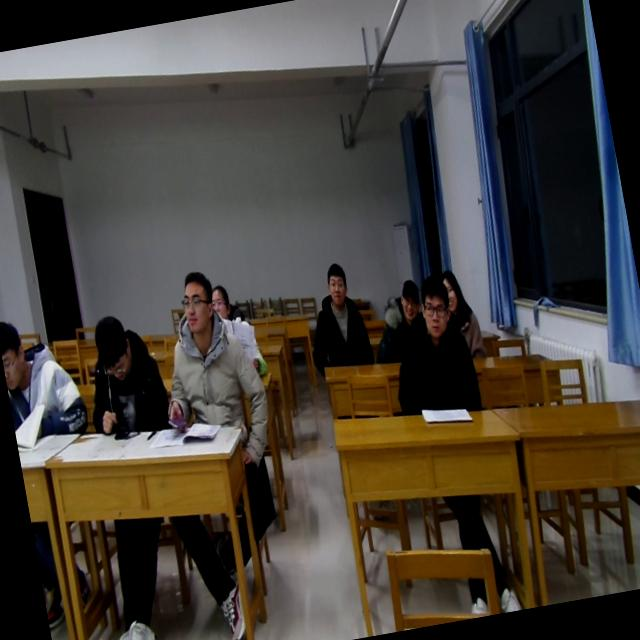bow: (0, 307, 92, 448)
down: (89, 312, 138, 392), (0, 315, 35, 392)
lookup: (166, 264, 222, 346), (413, 270, 455, 342), (314, 254, 350, 310), (440, 260, 468, 319), (390, 272, 422, 323), (206, 281, 234, 327)
sit: (142, 262, 272, 437), (377, 272, 487, 419), (72, 306, 172, 446), (296, 255, 376, 378), (202, 278, 269, 388), (363, 270, 431, 365), (437, 264, 488, 364)
